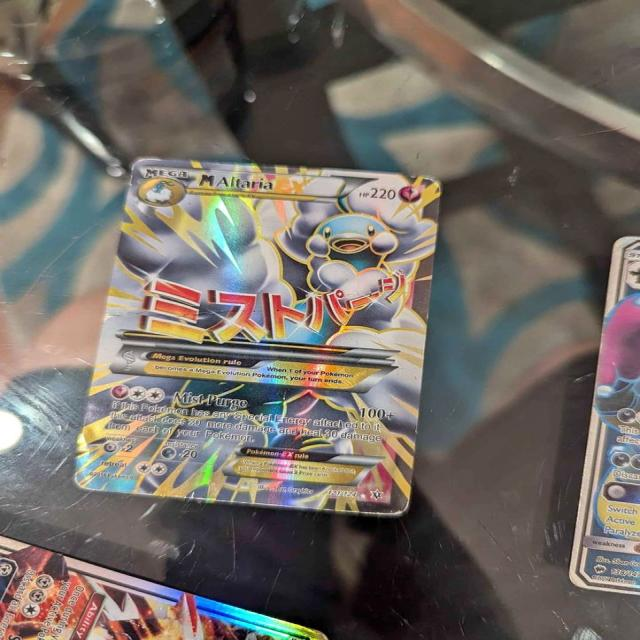card: (75, 158, 442, 514), (0, 533, 328, 640), (568, 236, 640, 596)
